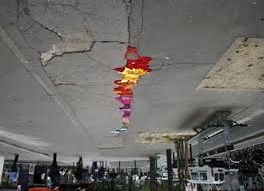pothole: (26, 27, 95, 66)
